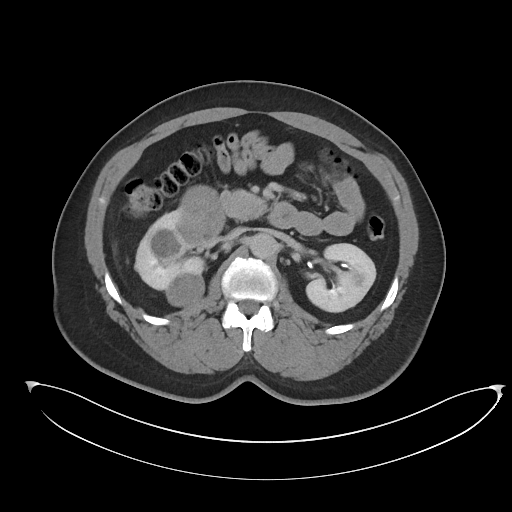Lesion: (171, 183, 226, 252)
